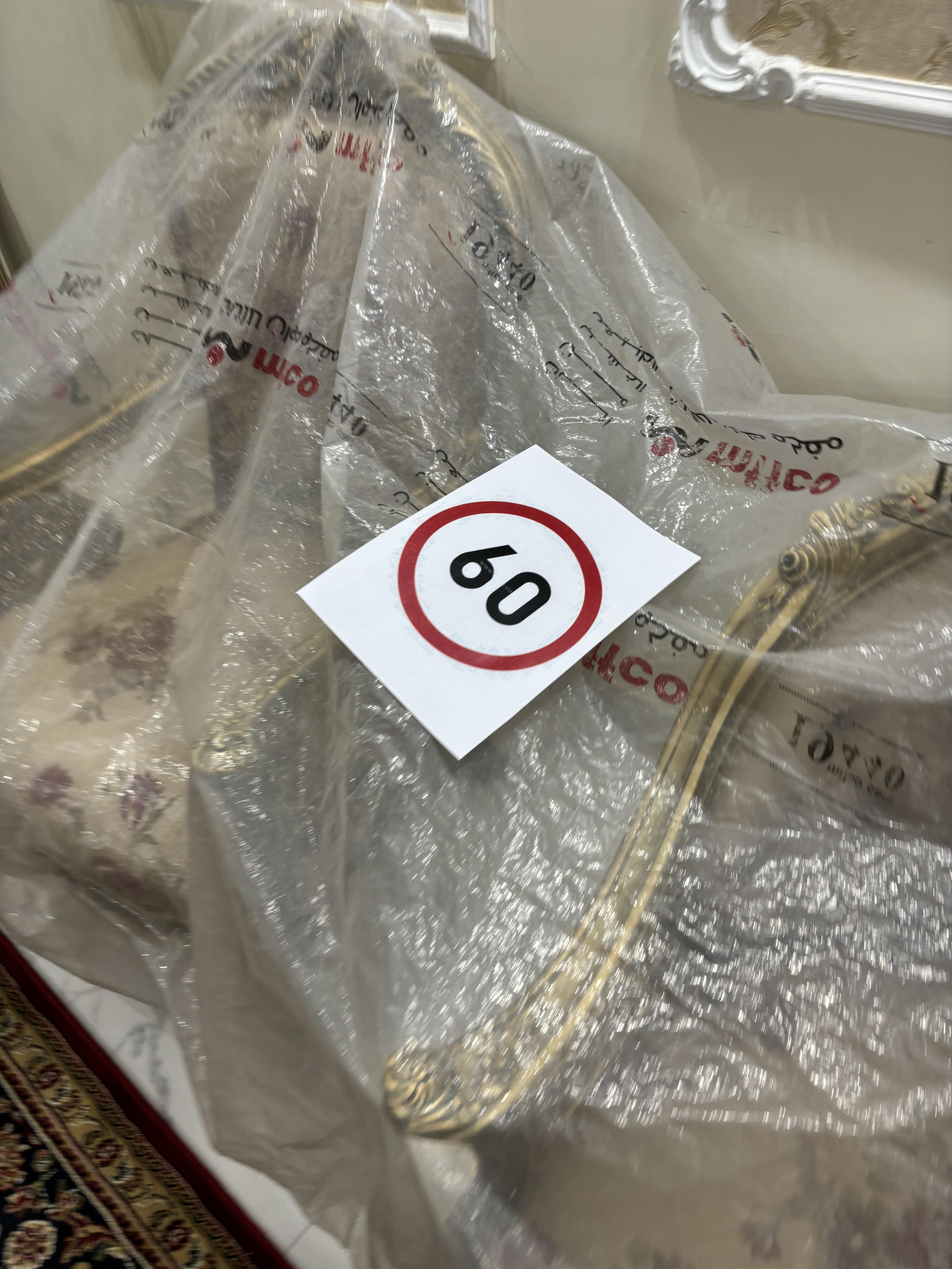60-Speed: (396, 491, 612, 673)
